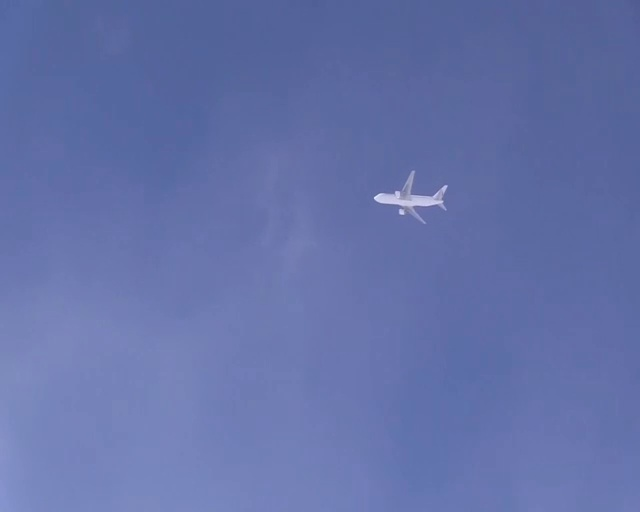AIRPLANE: (373, 170, 448, 224)
